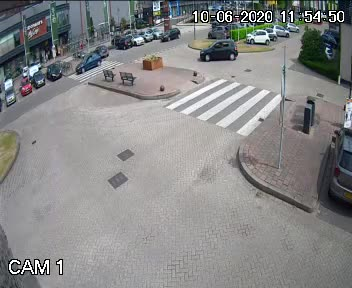car: (193, 37, 243, 65), (70, 53, 100, 73), (156, 27, 183, 41)
